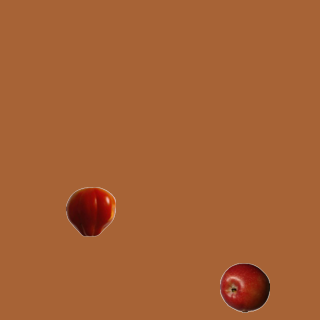Apple Braeburn: (219, 262, 269, 312)
Tomato 1: (65, 186, 115, 236)
